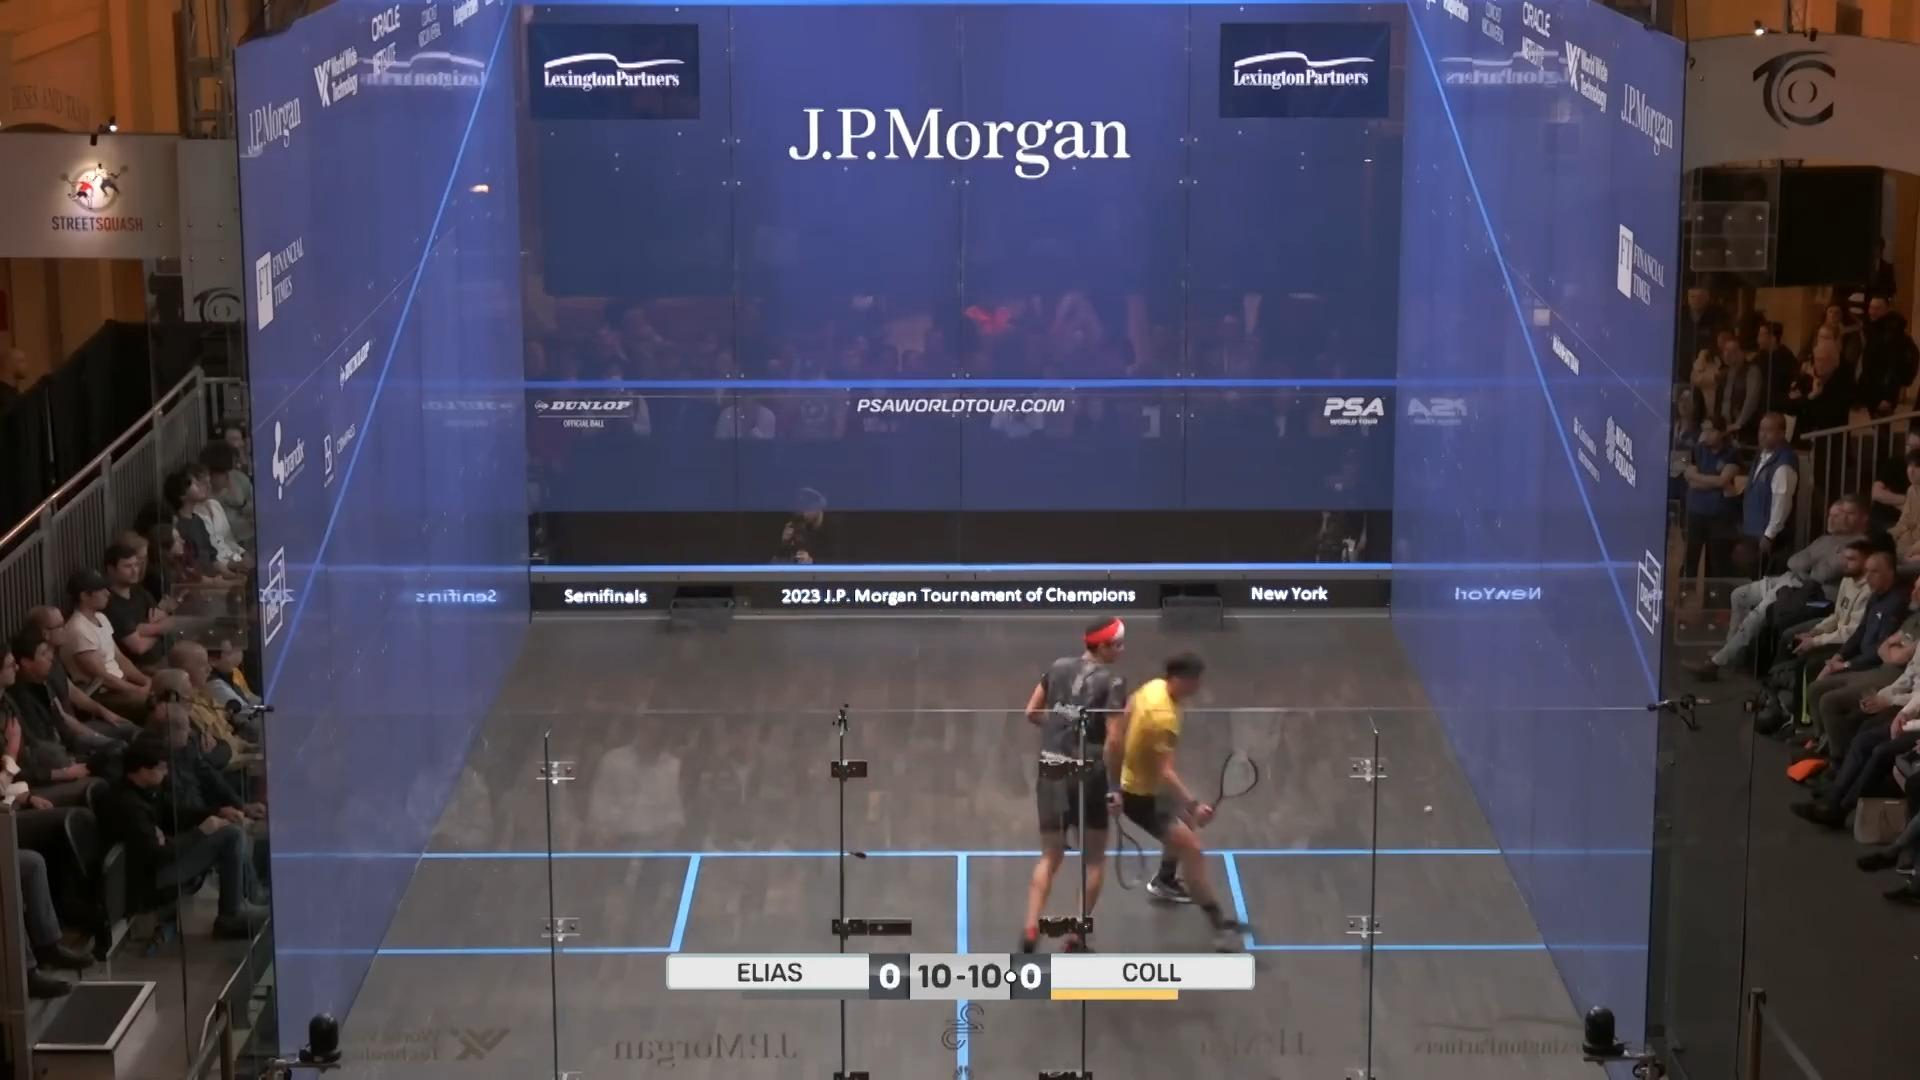Racket: (1208, 742, 1269, 823), (1102, 799, 1151, 898)
